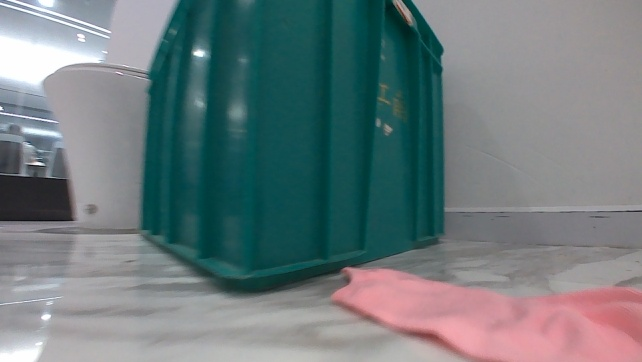socks: (329, 263, 641, 361)
toilet: (40, 59, 151, 232)
